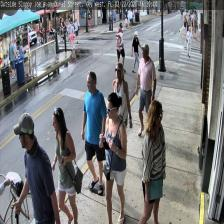person: (12, 111, 60, 224), (99, 92, 127, 224), (137, 100, 166, 224), (81, 70, 106, 194), (53, 106, 78, 224), (110, 62, 132, 170), (135, 44, 156, 136)
